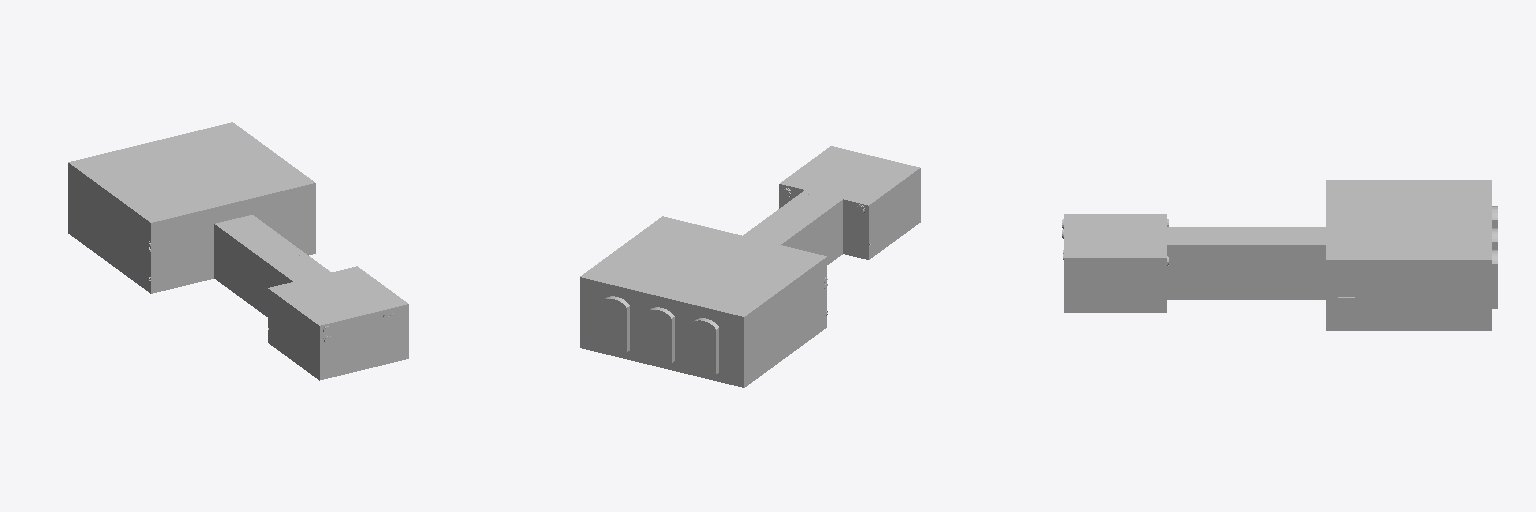
Rendered from bpcem_playground.obj.
3 views of the same model, side by side, from view 1: azimuth 30°, elevation 25°; view 2: azimuth 150°, elevation 25°; view 3: azimuth 270°, elevation 25° (orthographic).
Visible parts, largest first — view 1: Cube.002_Cube.012, Cube.008_Cube.014, Cube.004_Cube.006, Cube.001, Cube.003_Cube.017, Cube.013; view 2: Cube.002_Cube.012, Cube.008_Cube.014, Cube.001, Cube.004_Cube.006, Cube.009_Cube.010, Cube.013, Cube.003_Cube.017; view 3: Cube.008_Cube.014, Cube.002_Cube.012, Cube.003_Cube.017, Cube.004_Cube.006, Cube.001, Cube.013.
Boxes of the visible parts, x1,y1,x2,y2 form: Cube.002_Cube.012: [68, 163, 315, 293]; Cube.008_Cube.014: [68, 122, 314, 222]; Cube.004_Cube.006: [268, 289, 408, 380]; Cube.001: [268, 266, 407, 325]; Cube.003_Cube.017: [214, 224, 292, 316]; Cube.013: [215, 215, 331, 281]; Cube.002_Cube.012: [580, 257, 826, 387]; Cube.008_Cube.014: [580, 216, 826, 316]; Cube.001: [780, 146, 919, 205]; Cube.004_Cube.006: [779, 168, 920, 259]; Cube.009_Cube.010: [601, 299, 715, 373]; Cube.013: [743, 190, 842, 244]; Cube.003_Cube.017: [781, 200, 842, 264]; Cube.008_Cube.014: [1326, 180, 1491, 259]; Cube.002_Cube.012: [1326, 206, 1497, 330]; Cube.003_Cube.017: [1167, 245, 1325, 299]; Cube.004_Cube.006: [1064, 258, 1166, 312]; Cube.001: [1064, 214, 1166, 257]; Cube.013: [1167, 227, 1325, 244].
Bounding box in the file's own units: 60.74 × 25.4 × 138.